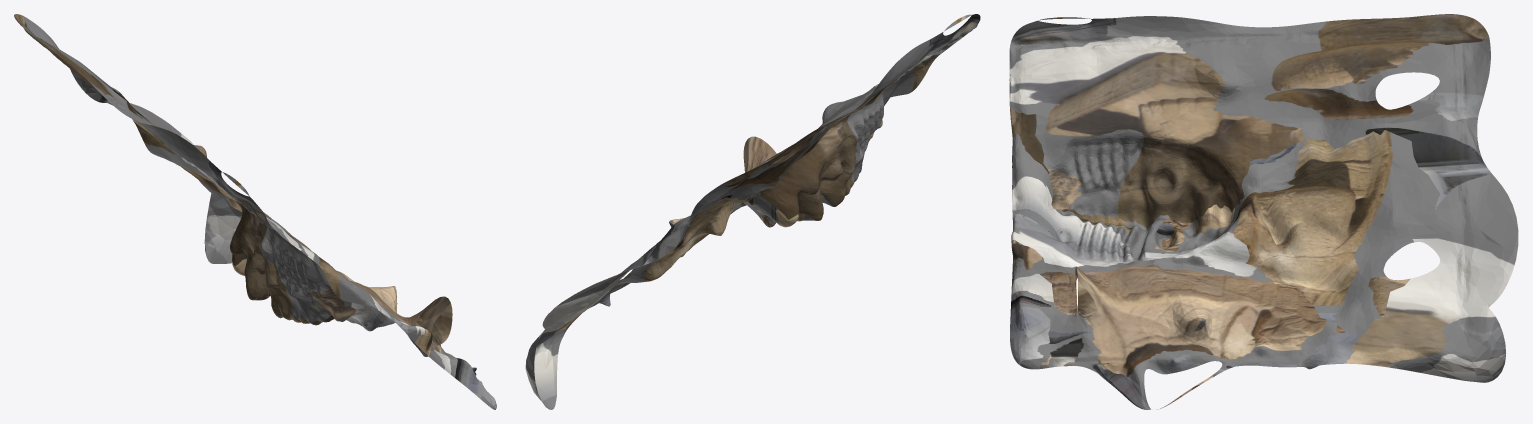
3 views of the same model, side by side, from view 1: azimuth 30°, elevation 25°; view 2: azimuth 150°, elevation 25°; view 3: azimuth 270°, elevation 25° (orthographic). The views are drawn at different scales.
Parts seen in each view (by area): view 1: Texture_0; view 2: Texture_0; view 3: Texture_0.
Boxes of the visible parts, x1,y1,x2,y2 form: Texture_0: (14,14,496,409); Texture_0: (525,14,980,409); Texture_0: (1009,14,1518,409).
Size of the model in its own units: 29.46 by 29.66 by 49.51.
